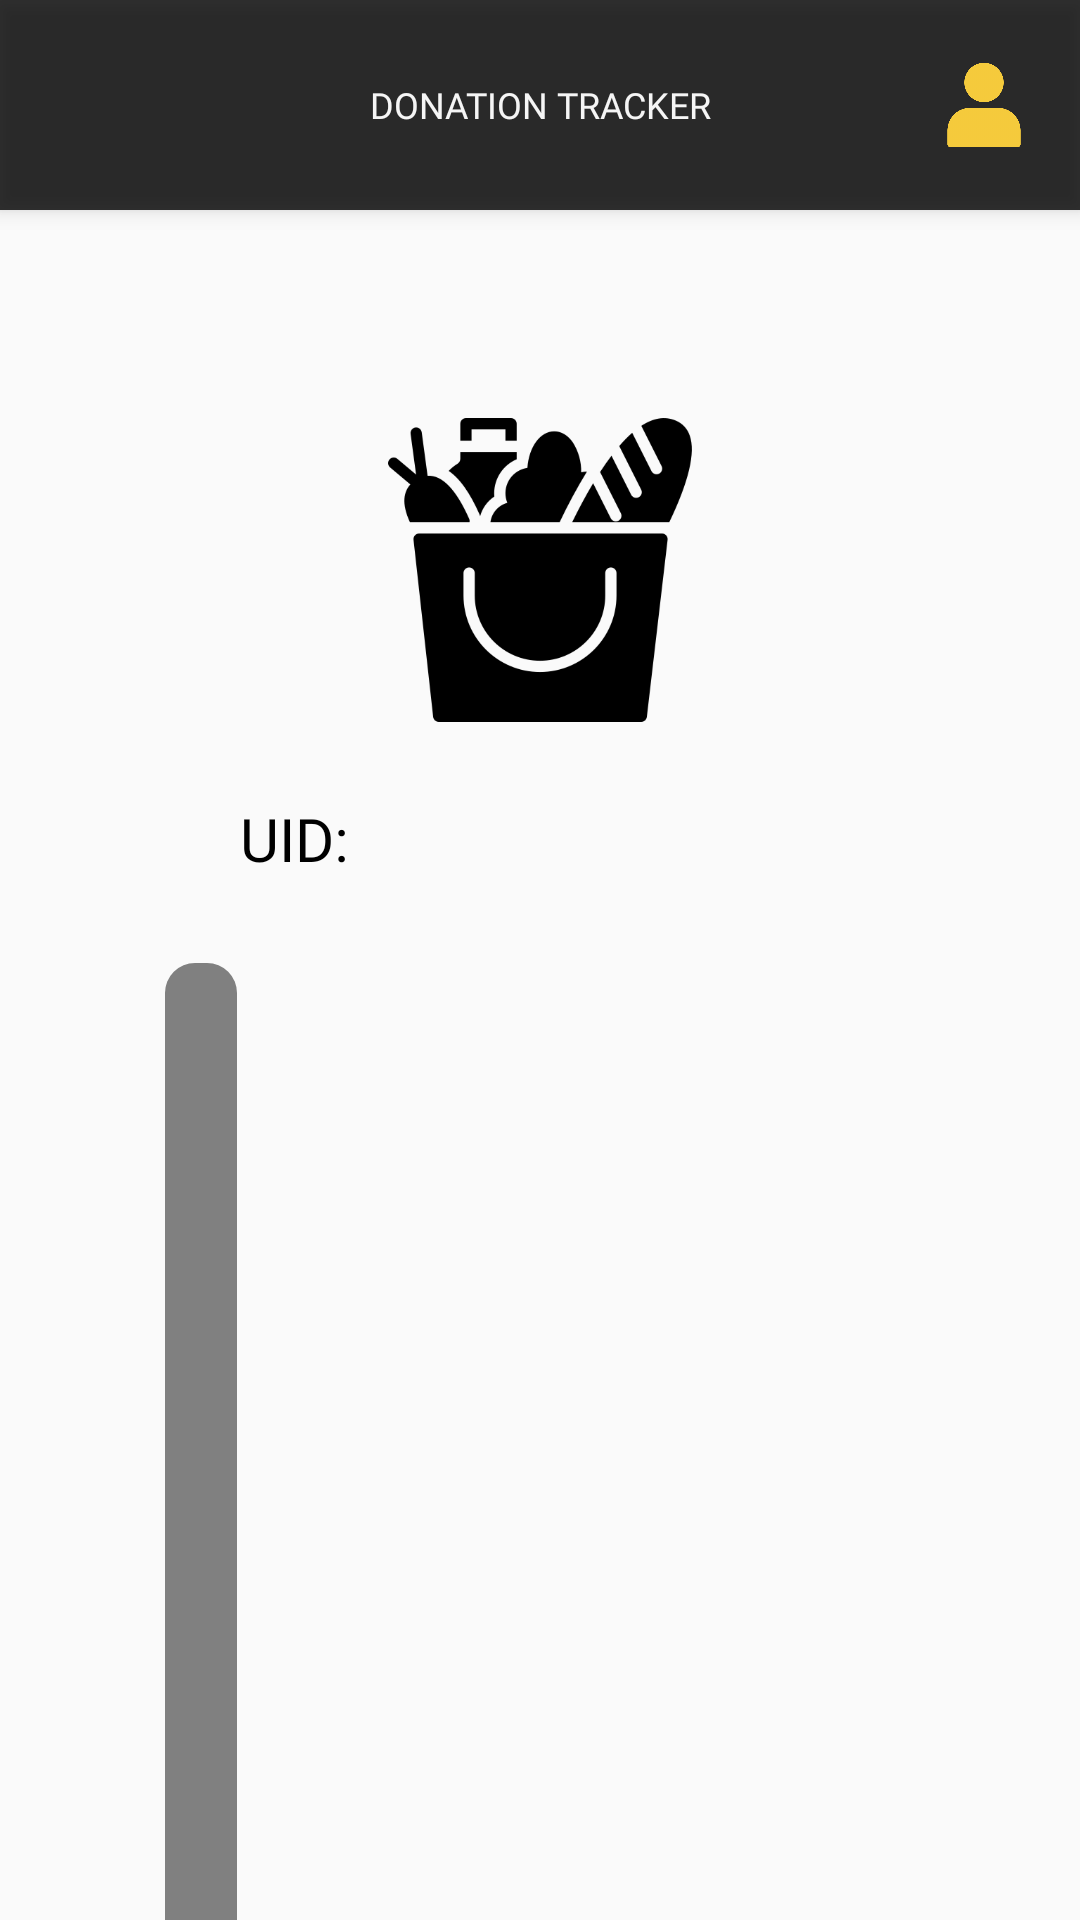

Named icons in this screenshot (1080x1920) and their bounding boxes, (left=x1, top=y1, right=x2, bottom=y2):
account: (left=947, top=63, right=1021, bottom=147)
